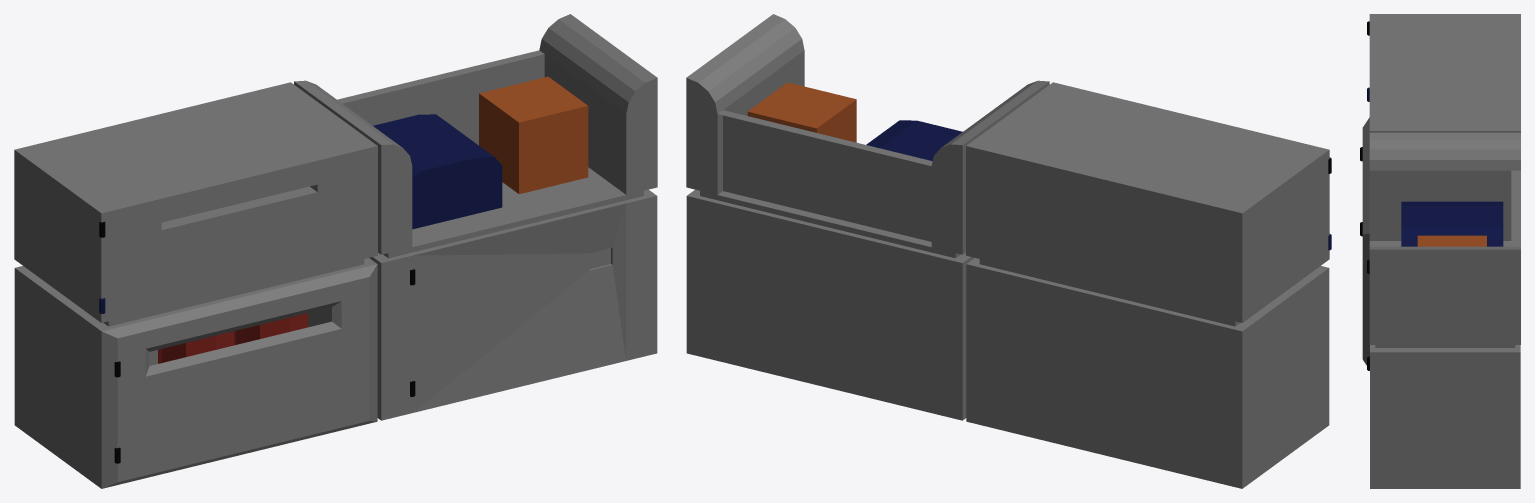
File: Storage_Boxes.fbx
The picture shows the model from 3 angles, left to right: view 1: azimuth 30°, elevation 25°; view 2: azimuth 150°, elevation 25°; view 3: azimuth 270°, elevation 25°; orthographic projection. The views are drawn at different scales.
Visible parts, largest first — view 1: Storage Box; view 2: Storage Box; view 3: Storage Box.
Boxes of the visible parts, x1,y1,x2,y2 form: Storage Box: (14,14,657,488); Storage Box: (686,14,1331,488); Storage Box: (1360,14,1520,488).
Bounding box in the file's own units: 741 × 350 × 213.
